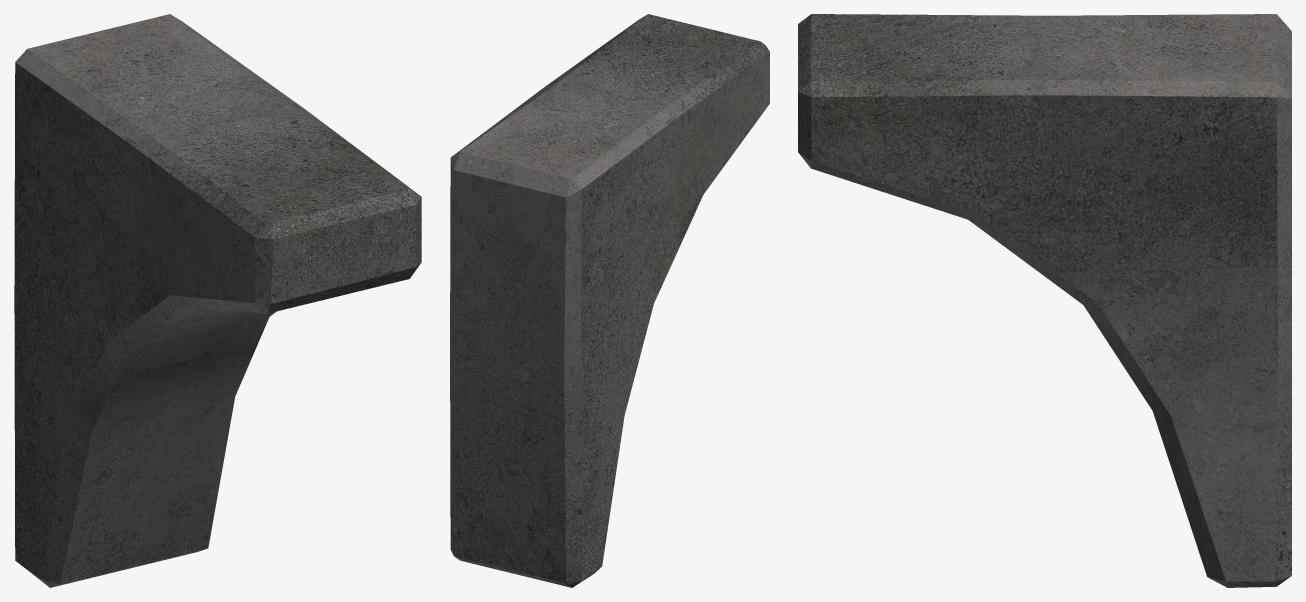
The model's file is Prop_Beam_2.fbx.
The picture shows the model from 3 angles, left to right: view 1: azimuth 30°, elevation 25°; view 2: azimuth 150°, elevation 25°; view 3: azimuth 270°, elevation 25°; orthographic projection. The views are drawn at different scales.
Parts seen in each view (by area): view 1: Prop_Beam_2; view 2: Prop_Beam_2; view 3: Prop_Beam_2.
Part boxes in pixels (x1,y1,x2,y2): Prop_Beam_2: (14,14,421,587); Prop_Beam_2: (450,14,769,587); Prop_Beam_2: (798,14,1291,587).
Bounding box in the file's own units: 0.3613 × 1.08 × 0.9533.
Materials: 1 (1 with a texture image).
